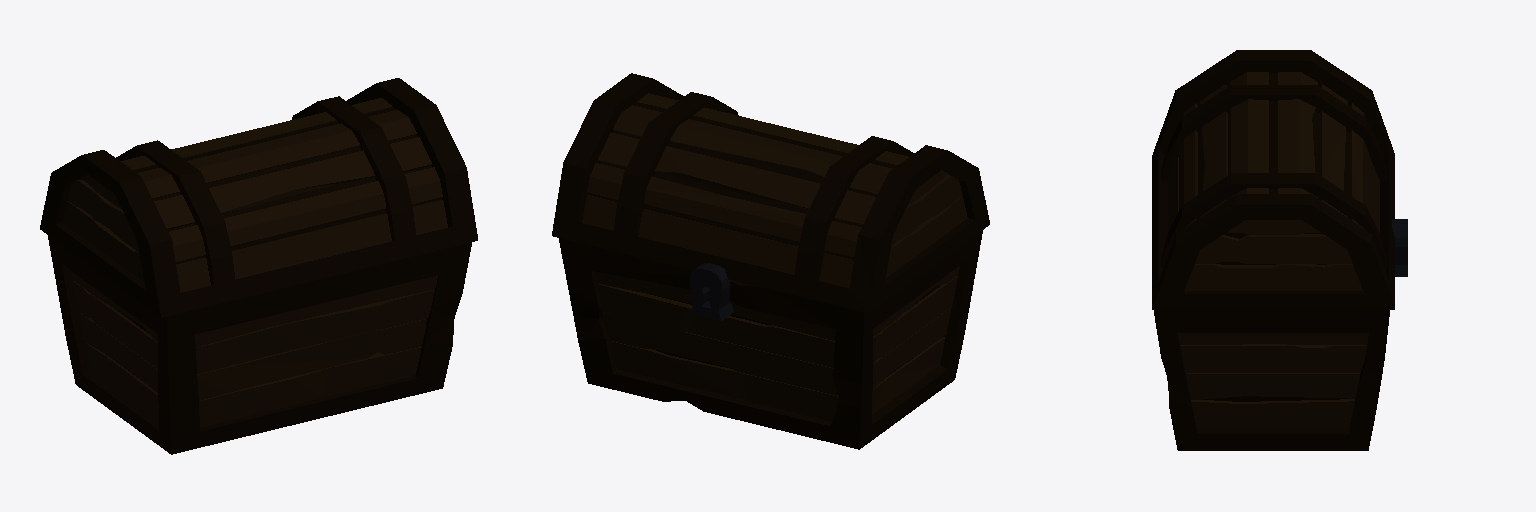
Rendered from Chest_Gold.obj.
3 views of the same model, side by side, from view 1: azimuth 30°, elevation 25°; view 2: azimuth 150°, elevation 25°; view 3: azimuth 270°, elevation 25° (orthographic).
Parts seen in each view (by area): view 1: Chest_Gold; view 2: Chest_Gold; view 3: Chest_Gold.
Boxes of the visible parts, box(x1,y1,x2,y2) form: Chest_Gold: box(40, 78, 477, 454); Chest_Gold: box(552, 73, 989, 449); Chest_Gold: box(1152, 50, 1407, 450).
Size of the model in its own units: 1.18 by 0.9107 by 0.8223.